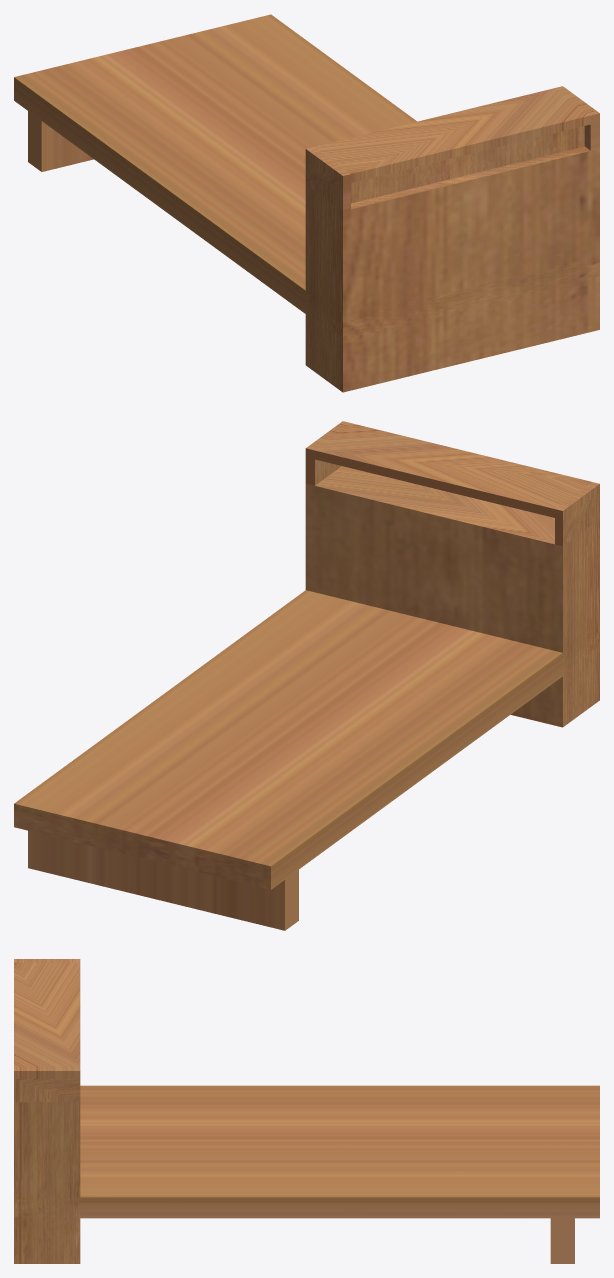
File: object_6_lev1.glb
3 renders of one model, top to bottom at view 1: azimuth 30°, elevation 25°; view 2: azimuth 150°, elevation 25°; view 3: azimuth 270°, elevation 25°, orthographic. The views are drawn at different scales.
Visible parts, largest first — view 1: object_6_lev1; view 2: object_6_lev1; view 3: object_6_lev1.
Boxes of the visible parts, left/top/right/bottom form: object_6_lev1: left=14, top=14, right=599, bottom=392; object_6_lev1: left=14, top=421, right=599, bottom=930; object_6_lev1: left=14, top=959, right=599, bottom=1263.
Bounding box in the file's own units: 9.91 × 7.98 × 21.96.
1 material, 1 textured.
